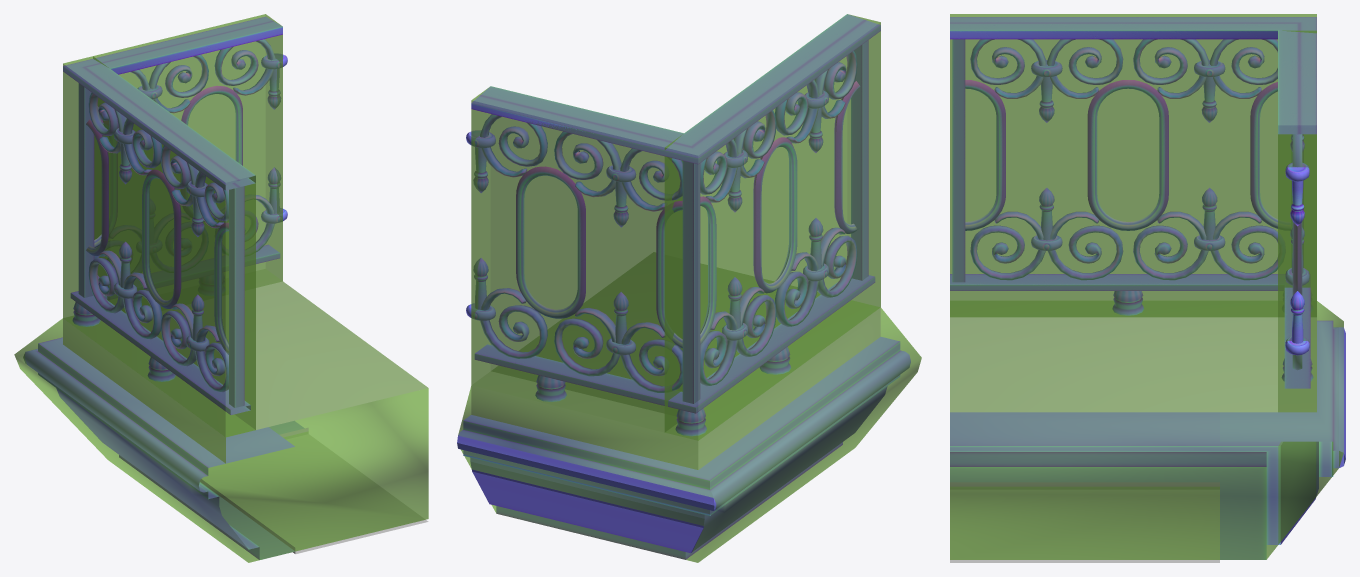
Rendered from F_md_Balcony_L_end_04_m.fbx.
The picture shows the model from 3 angles, left to right: view 1: azimuth 30°, elevation 25°; view 2: azimuth 150°, elevation 25°; view 3: azimuth 270°, elevation 25°; orthographic projection. The views are drawn at different scales.
Visible parts, largest first — view 1: F_md_Balcony_L_end_04_m_LOD0, F_md_Balcony_L_end_04_m_col_01, F_md_Balcony_L_end_04_m_col_02, F_md_Balcony_L_end_04_m_col_03; view 2: F_md_Balcony_L_end_04_m_LOD0, F_md_Balcony_L_end_04_m_col_02, F_md_Balcony_L_end_04_m_col_03, F_md_Balcony_L_end_04_m_col_01; view 3: F_md_Balcony_L_end_04_m_LOD0, F_md_Balcony_L_end_04_m_col_02, F_md_Balcony_L_end_04_m_col_01, F_md_Balcony_L_end_04_m_col_03.
Boxes of the visible parts, x1,y1,x2,y2 form: F_md_Balcony_L_end_04_m_LOD0: [23, 16, 428, 559]; F_md_Balcony_L_end_04_m_col_01: [14, 269, 428, 562]; F_md_Balcony_L_end_04_m_col_02: [63, 56, 255, 437]; F_md_Balcony_L_end_04_m_col_03: [93, 14, 282, 304]; F_md_Balcony_L_end_04_m_LOD0: [457, 14, 910, 559]; F_md_Balcony_L_end_04_m_col_02: [664, 14, 880, 440]; F_md_Balcony_L_end_04_m_col_03: [471, 86, 683, 432]; F_md_Balcony_L_end_04_m_col_01: [458, 300, 921, 562]; F_md_Balcony_L_end_04_m_LOD0: [950, 17, 1345, 562]; F_md_Balcony_L_end_04_m_col_02: [950, 14, 1316, 317]; F_md_Balcony_L_end_04_m_col_01: [950, 301, 1343, 559]; F_md_Balcony_L_end_04_m_col_03: [1278, 30, 1316, 412].
Size of what is drawn, in the model's own units: 101 by 148 by 122.
